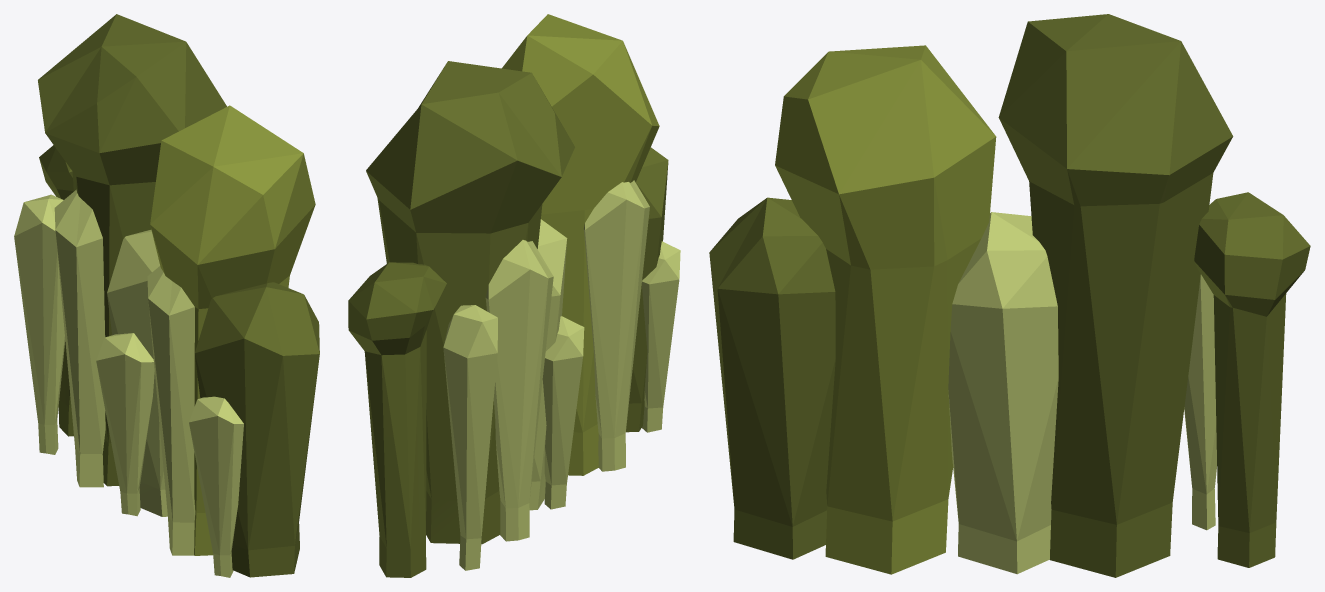
File: ea_swamp_grass_01d_pre__1__lev1.glb
3 views of the same model, side by side, from view 1: azimuth 30°, elevation 25°; view 2: azimuth 150°, elevation 25°; view 3: azimuth 270°, elevation 25° (orthographic). The views are drawn at different scales.
Visible parts, largest first — view 1: ea_swamp_grass_01d_pre__1__lev1; view 2: ea_swamp_grass_01d_pre__1__lev1; view 3: ea_swamp_grass_01d_pre__1__lev1.
Part boxes in pixels (x1,y1,x2,y2): ea_swamp_grass_01d_pre__1__lev1: (14,14,319,577); ea_swamp_grass_01d_pre__1__lev1: (348,14,680,577); ea_swamp_grass_01d_pre__1__lev1: (709,14,1310,577).
Bounding box in the file's own units: 0.2059 × 0.5077 × 0.5301.
1 material, 1 textured.
